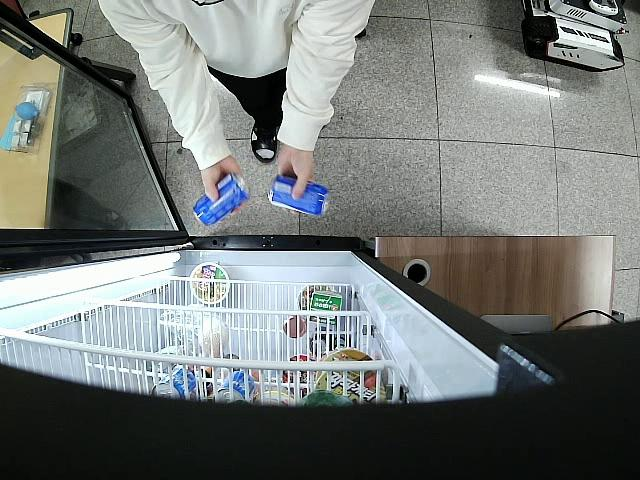00_hand: (201, 155, 245, 215), (276, 144, 315, 201)
13_pocariSweat: (192, 175, 250, 226), (267, 175, 333, 217)
